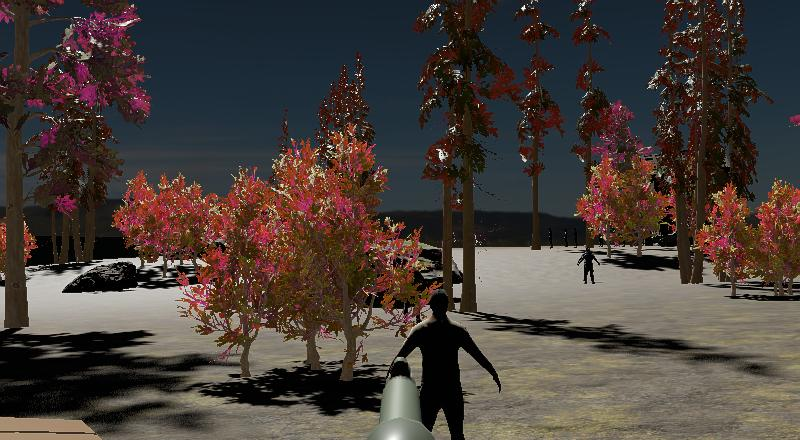Human: (577, 246, 601, 285)
